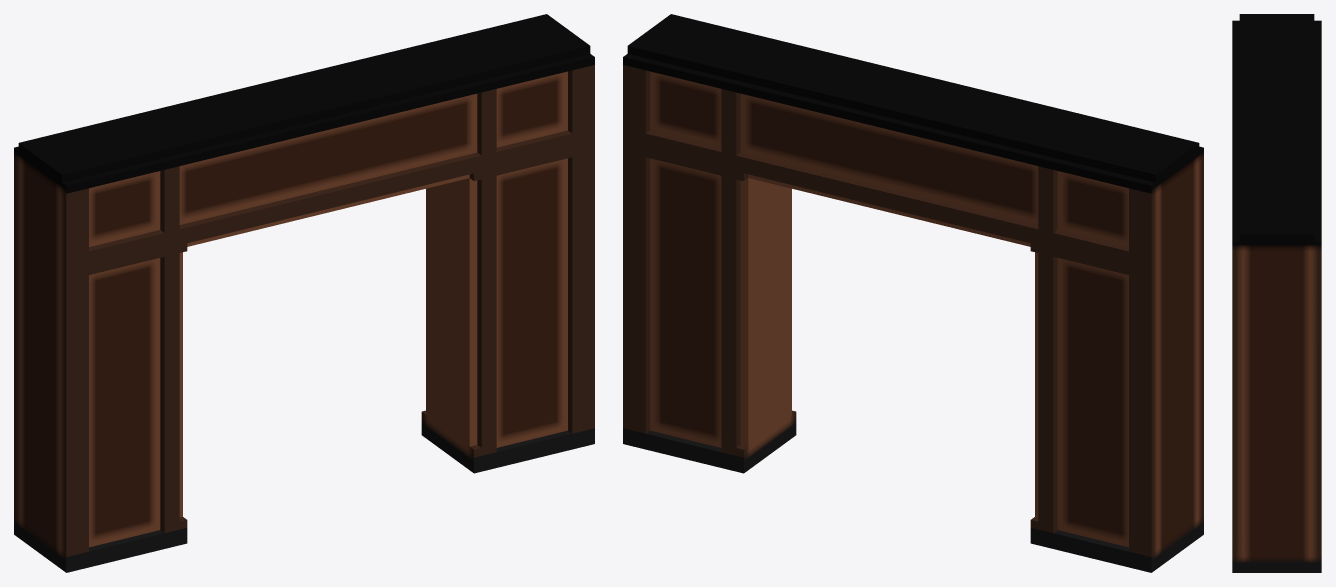
The model's file is Door-Wood-Model-03.fbx.
3 views of the same model, side by side, from view 1: azimuth 30°, elevation 25°; view 2: azimuth 150°, elevation 25°; view 3: azimuth 270°, elevation 25° (orthographic). The views are drawn at different scales.
Visible parts, largest first — view 1: Door-Wood-Model-03; view 2: Door-Wood-Model-03; view 3: Door-Wood-Model-03.
Boxes of the visible parts, x1=… form: Door-Wood-Model-03: x1=14, y1=14, x2=594, y2=572; Door-Wood-Model-03: x1=623, y1=14, x2=1203, y2=572; Door-Wood-Model-03: x1=1232, y1=14, x2=1321, y2=572.
Size of the model in its own units: 70 by 50 by 12.
Materials: 1 (1 with a texture image).
